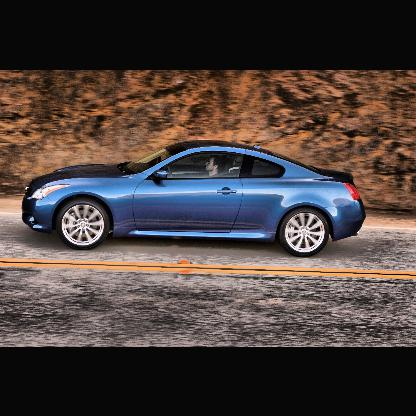Infiniti G Coupe IPL 2012: (23, 138, 368, 258)
